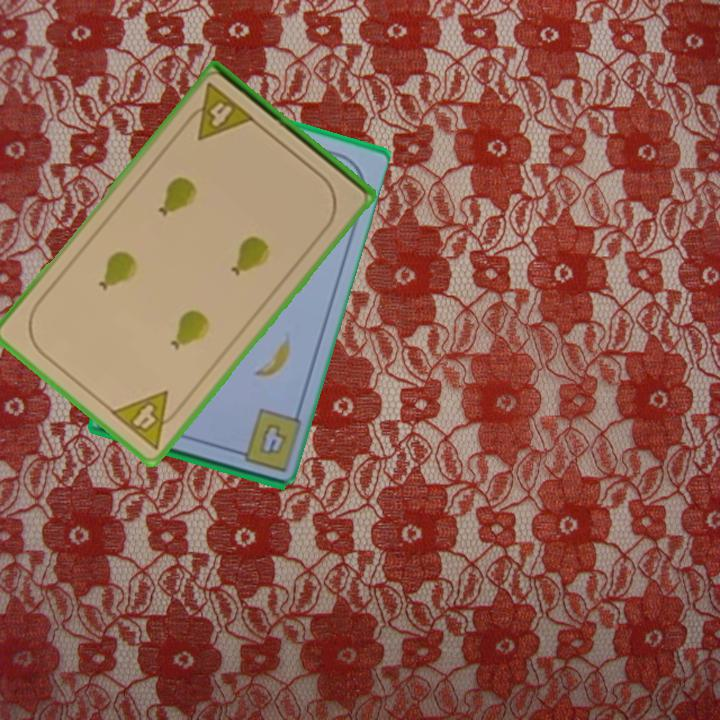4b: (255, 419, 289, 458)
4p: (106, 387, 187, 453), (179, 79, 258, 144)
